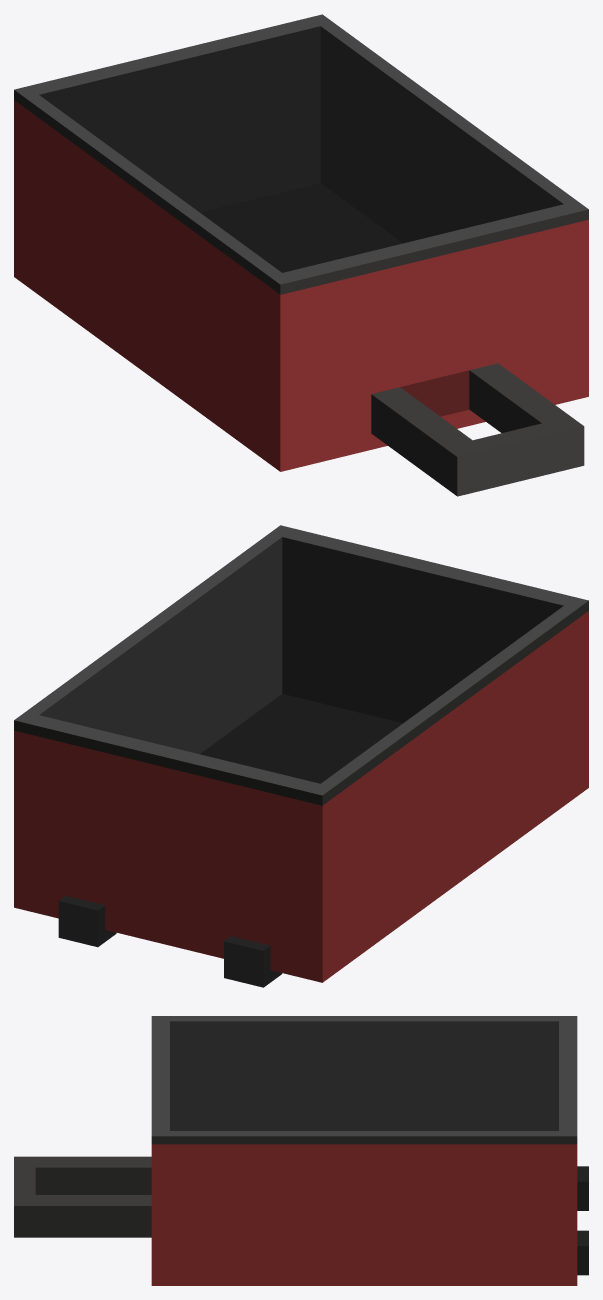
Rendered from SA_Prop_Bag_TravelbagEmpty_01.glb.
3 views of the same model, one above another, from view 1: azimuth 30°, elevation 25°; view 2: azimuth 150°, elevation 25°; view 3: azimuth 270°, elevation 25° (orthographic). The views are drawn at different scales.
Visible parts, largest first — view 1: SA_Prop_Bag_TravelbagEmpty_01; view 2: SA_Prop_Bag_TravelbagEmpty_01; view 3: SA_Prop_Bag_TravelbagEmpty_01.
Part boxes in pixels (left/top/right/bottom): SA_Prop_Bag_TravelbagEmpty_01: left=14, top=14, right=588, bottom=496; SA_Prop_Bag_TravelbagEmpty_01: left=14, top=525, right=588, bottom=987; SA_Prop_Bag_TravelbagEmpty_01: left=14, top=1016, right=588, bottom=1285.
Size of the model in its own units: 0.42 by 0.2595 by 0.8485.
Materials: 1 (1 with a texture image).
